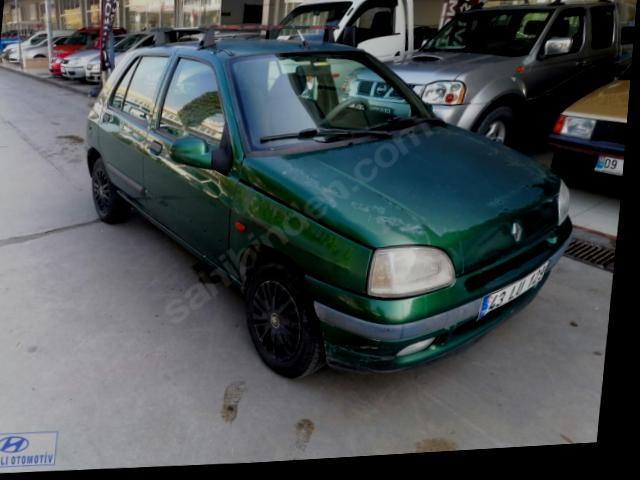plaka: (476, 263, 546, 321), (594, 155, 624, 175)
